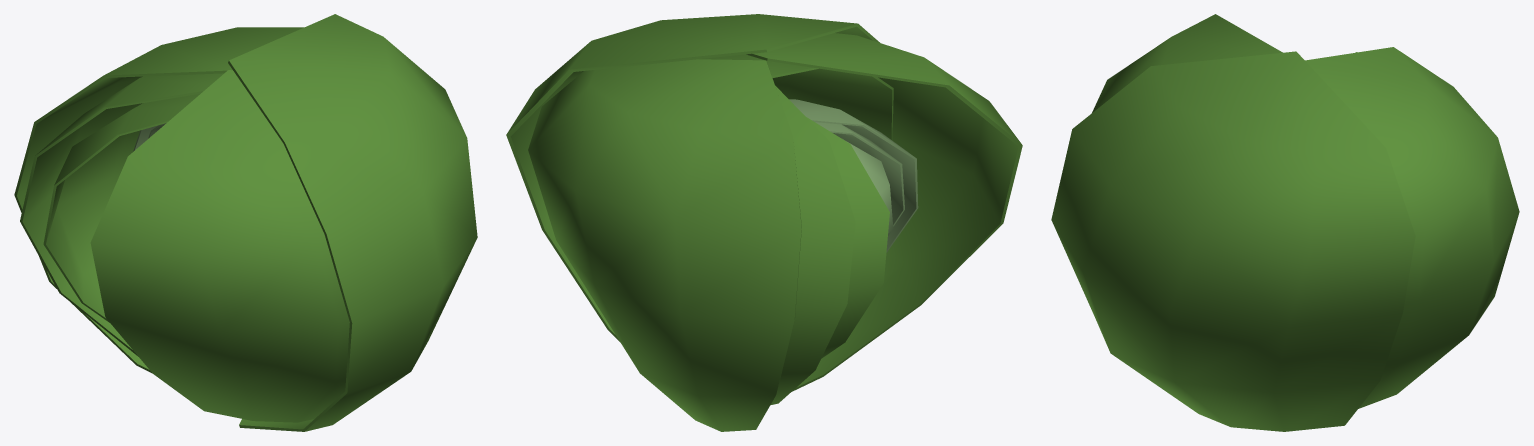
File: lettuce.glb
The picture shows the model from 3 angles, left to right: view 1: azimuth 30°, elevation 25°; view 2: azimuth 150°, elevation 25°; view 3: azimuth 270°, elevation 25°; orthographic projection.
Parts seen in each view (by area): view 1: Sphere004; view 2: Sphere004, Object001; view 3: Sphere004.
Boxes of the visible parts, x1,y1,x2,y2 form: Sphere004: (14,14,477,431); Sphere004: (506,14,1022,431); Object001: (789,99,918,252); Sphere004: (1051,14,1519,431).
Bounding box in the file's own units: 0.1387 × 0.1178 × 0.1355.
